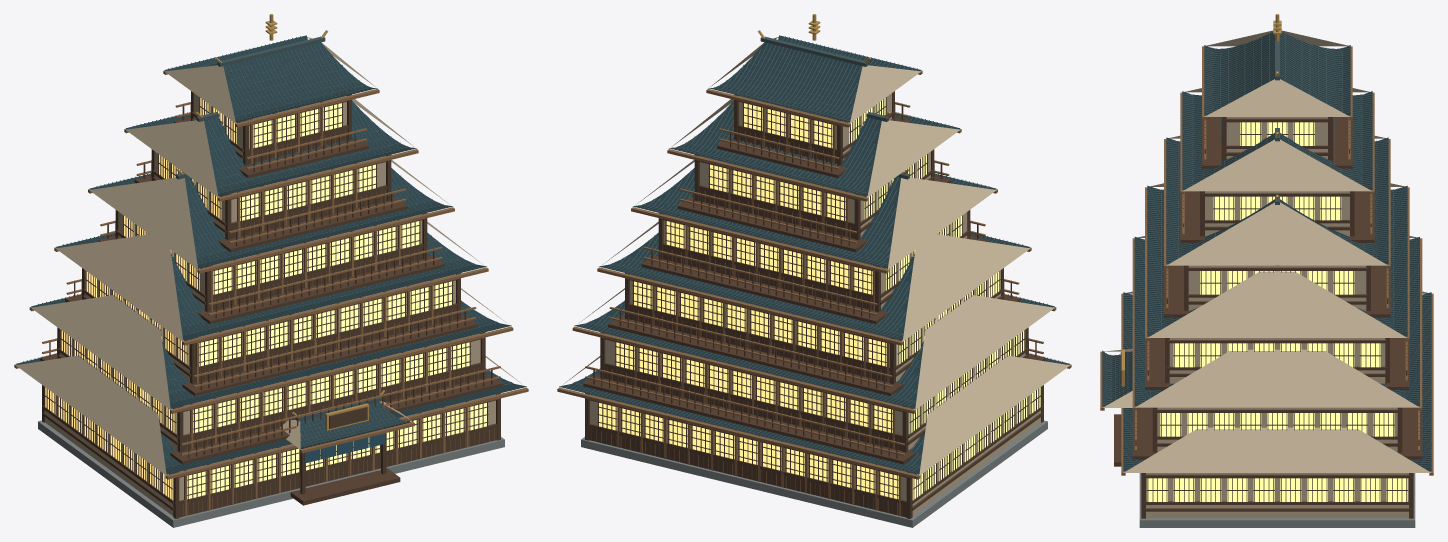
File: bounro-ryokan.glb
The picture shows the model from 3 angles, left to right: view 1: azimuth 30°, elevation 25°; view 2: azimuth 150°, elevation 25°; view 3: azimuth 270°, elevation 25°; orthographic projection.
Parts seen in each view (by area): view 1: Smoked cedar, Warm plaster, Blue charcoal tile, Shoji light, Cedar edges, Tile relief, Stone foundation, Indigo noren, Aged brass; view 2: Smoked cedar, Warm plaster, Shoji light, Blue charcoal tile, Cedar edges, Tile relief, Stone foundation; view 3: Warm plaster, Smoked cedar, Tile relief, Blue charcoal tile, Shoji light, Cedar edges, Stone foundation, Aged brass.
Boxes of the visible parts, x1,y1,x2,y2 form: Smoked cedar: [40, 91, 502, 518]; Warm plaster: [16, 37, 522, 515]; Blue charcoal tile: [16, 35, 526, 474]; Shoji light: [45, 98, 486, 500]; Cedar edges: [14, 37, 528, 516]; Tile relief: [23, 36, 519, 472]; Stone foundation: [38, 420, 504, 527]; Indigo noren: [304, 433, 384, 463]; Aged brass: [176, 14, 385, 430]; Smoked cedar: [583, 91, 1045, 518]; Warm plaster: [563, 37, 1069, 515]; Shoji light: [599, 98, 1040, 500]; Blue charcoal tile: [559, 35, 1069, 474]; Cedar edges: [557, 37, 1071, 516]; Tile relief: [566, 36, 1062, 472]; Stone foundation: [581, 420, 1047, 527]; Warm plaster: [1103, 30, 1431, 518]; Smoked cedar: [1114, 117, 1422, 518]; Tile relief: [1102, 32, 1431, 468]; Blue charcoal tile: [1102, 32, 1431, 471]; Shoji light: [1147, 122, 1407, 501]; Cedar edges: [1100, 46, 1433, 475]; Stone foundation: [1139, 473, 1415, 527]; Aged brass: [1121, 14, 1281, 386].
Size of the model in its own units: 22.3 by 25 by 17.52.
